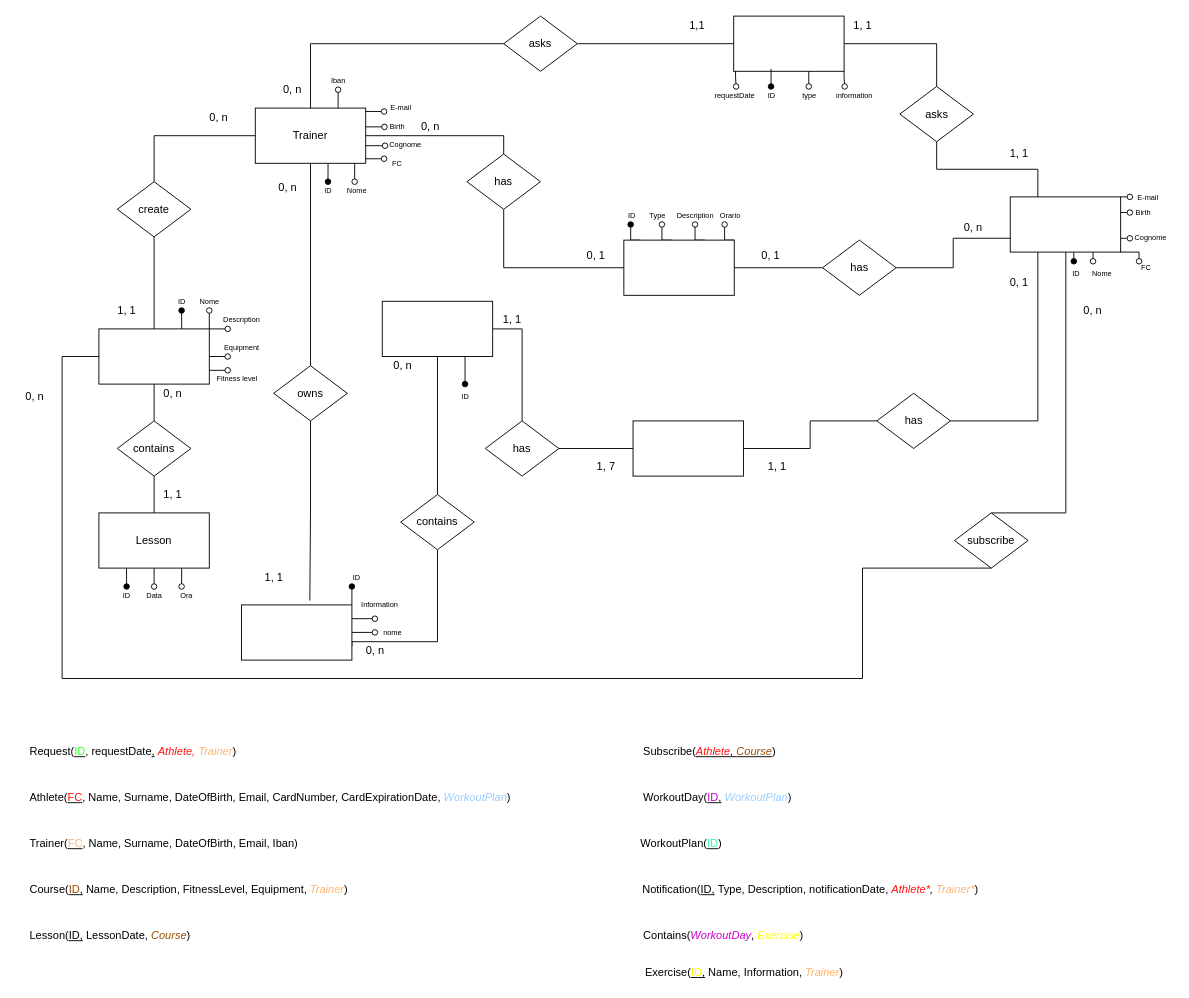
The diagram is 1189 pixels wide and 998 high, and some of its shapes have lost their labels. Here are the shapes that lost their labels. From the top down, the box of each, then its label:
(733, 15, 844, 71): Request
(1009, 196, 1121, 252): Athlete
(623, 239, 734, 295): Notification
(381, 300, 493, 356): WorkoutDay
(98, 328, 209, 384): Course
(632, 420, 743, 476): WorkoutPlan
(241, 604, 352, 660): Exercise
